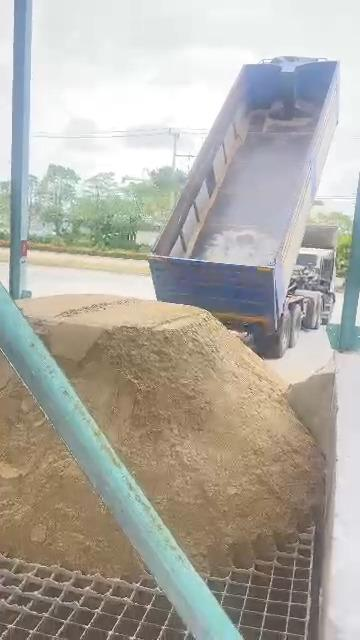sand: (22, 296, 322, 572), (0, 359, 141, 577), (286, 360, 337, 457)
